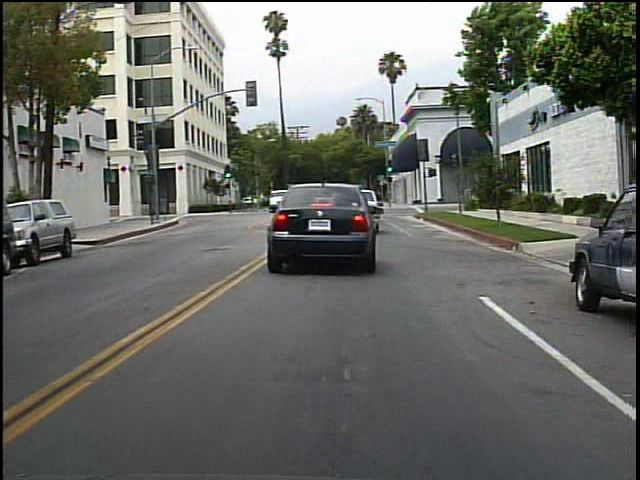person: (291, 184, 317, 221)
